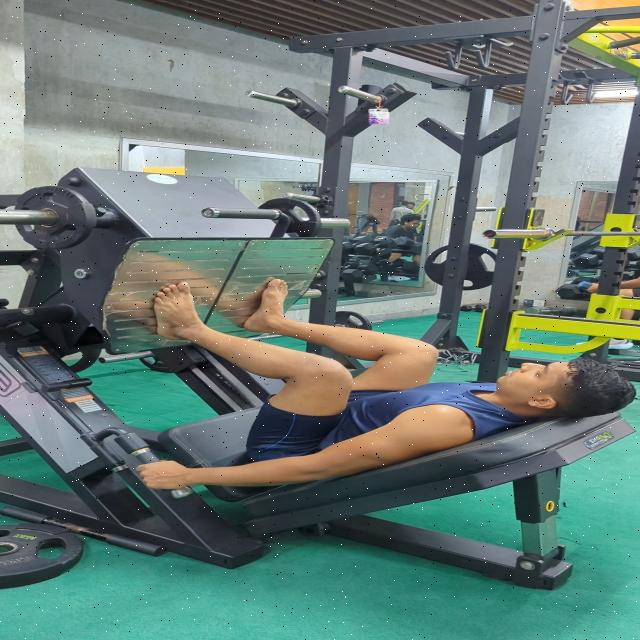Normal_LegPress: (56, 270, 625, 497)
